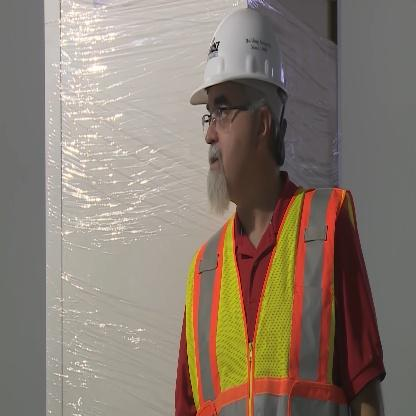helmet: (185, 13, 301, 216)
